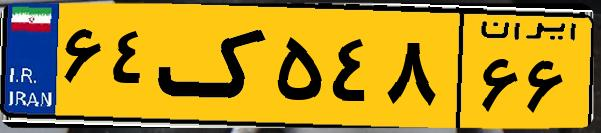4: (330, 28, 385, 110), (110, 28, 158, 98)
5: (270, 28, 330, 110)
6: (57, 26, 110, 100), (475, 38, 525, 113), (525, 38, 570, 115)
8: (385, 28, 445, 110)
ک: (158, 12, 270, 120)
